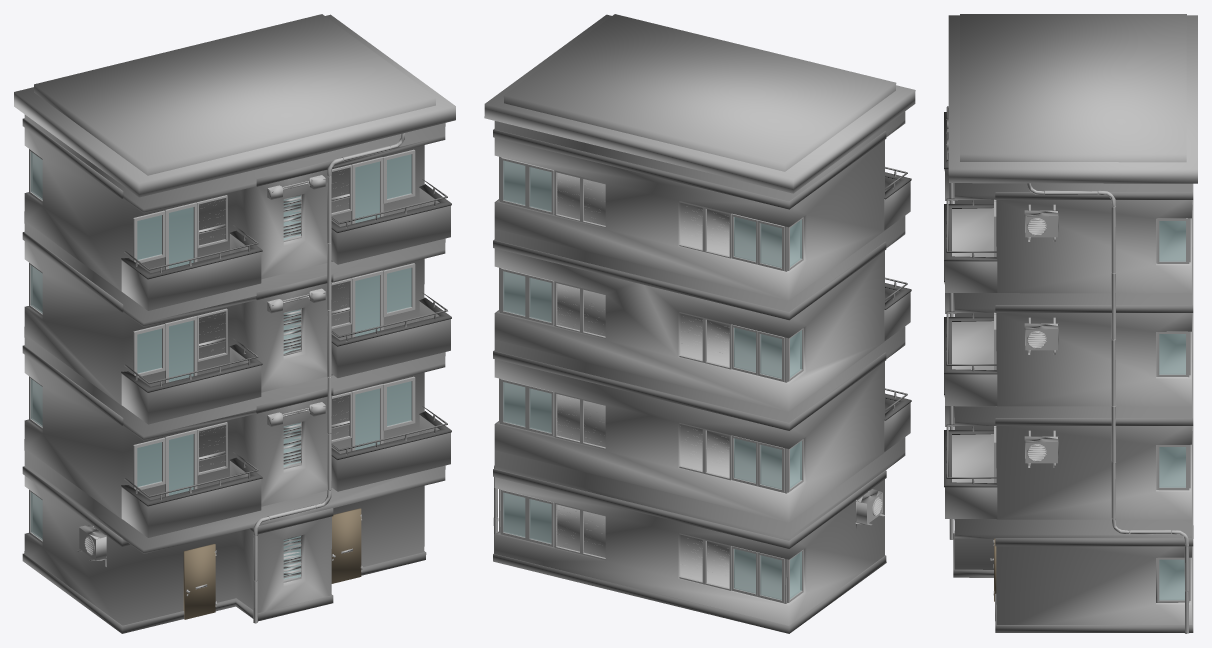
File: apartment_03_LOD1.fbx
3 renders of one model, left to right at view 1: azimuth 30°, elevation 25°; view 2: azimuth 150°, elevation 25°; view 3: azimuth 270°, elevation 25°, orthographic. The views are drawn at different scales.
Visible parts, largest first — view 1: apartment_03_LOD1; view 2: apartment_03_LOD1; view 3: apartment_03_LOD1.
Part boxes in pixels (x1,y1,x2,y2): apartment_03_LOD1: [14, 14, 455, 633]; apartment_03_LOD1: [484, 14, 915, 633]; apartment_03_LOD1: [944, 14, 1197, 633].
Bounding box in the file's own units: 1218 × 1664 × 805.
